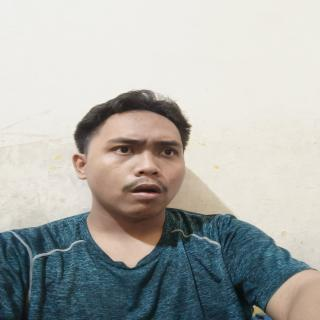Takut: (82, 104, 194, 228)
